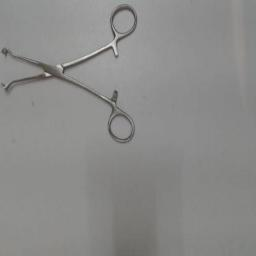Babcock Tissue Forceps: (0, 2, 140, 148)
